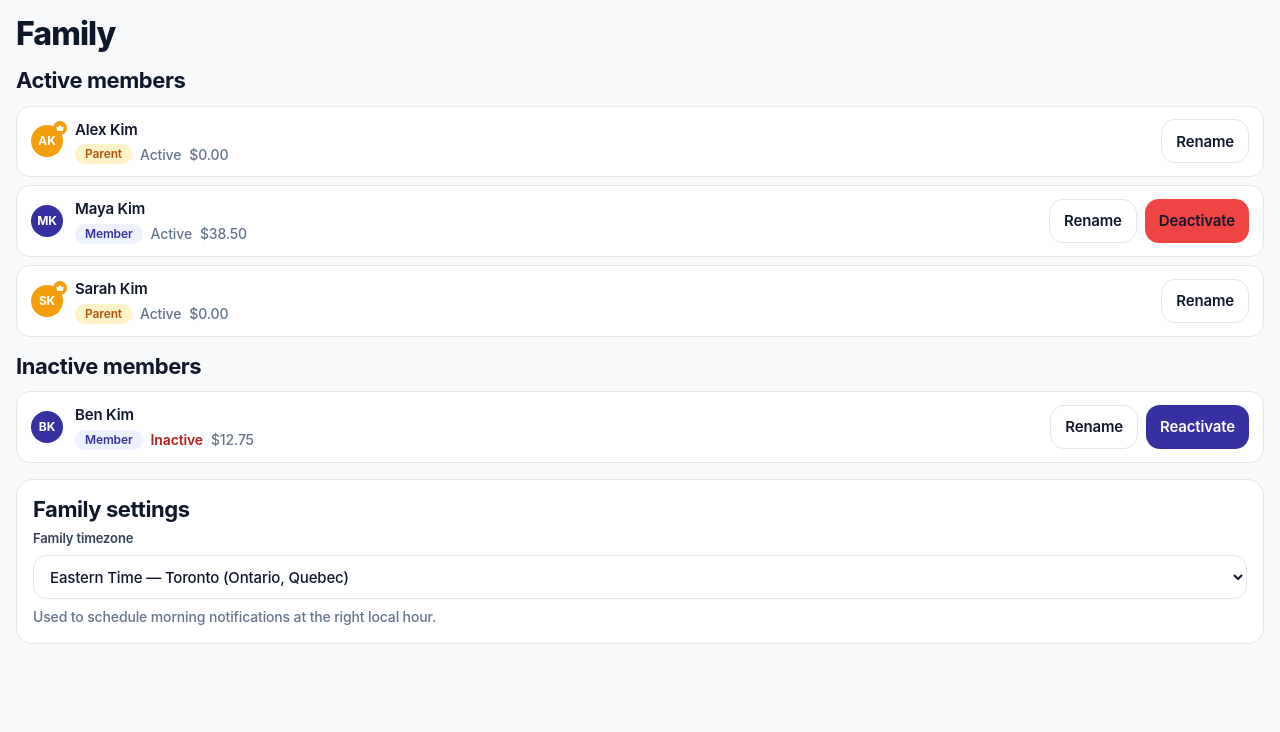
Test: FamilyManagementScreen — F13 family timezone settings (parent-only) › a successful change surfaces the success toast
The image size is (1280, 732).
Select "Atlantic Time — Halifax (Maritimes)" in the dropdown labelled "Family timezone" at (640, 577), box x1=33 y1=555 x2=1247 y2=599
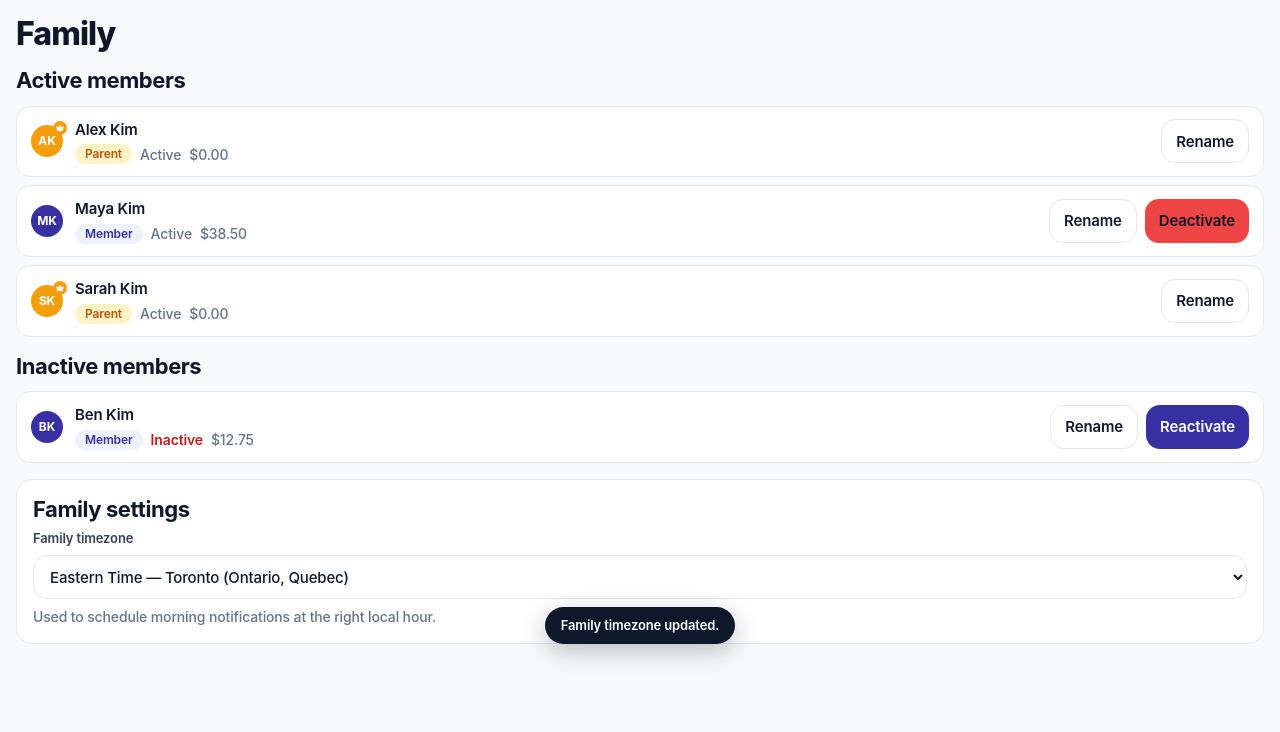
Result: the text "Family timezone updated." is shown at x1=545 y1=607 x2=735 y2=644
